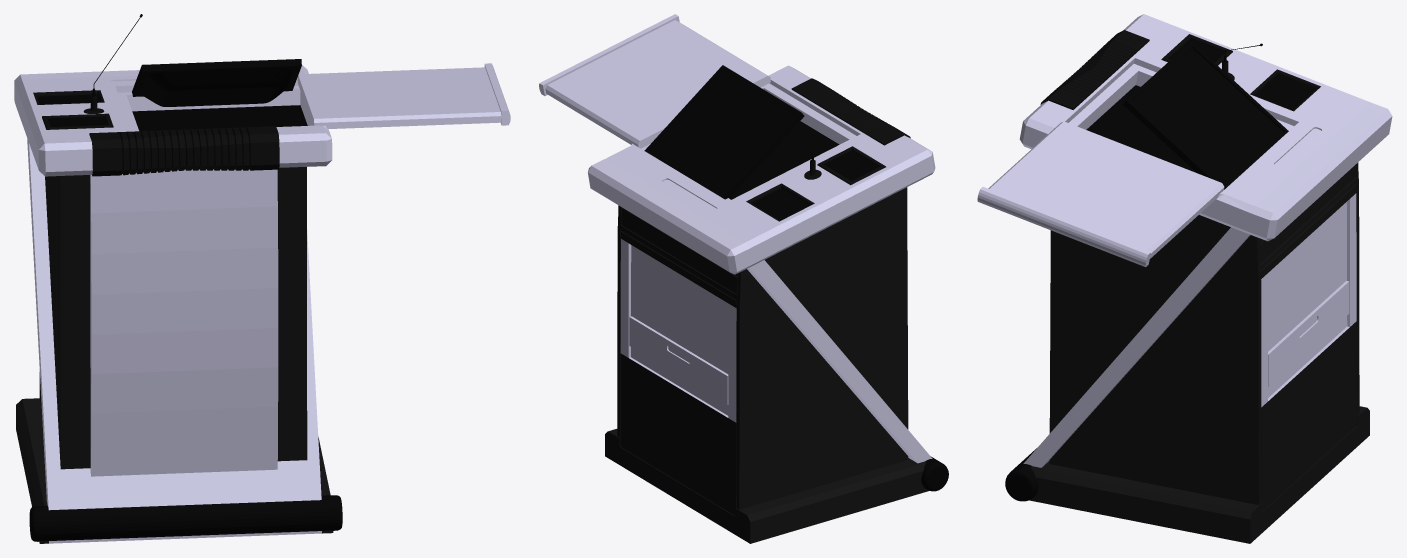
File: Lectern.fbx
The picture shows the model from 3 angles, left to right: view 1: azimuth 30°, elevation 25°; view 2: azimuth 150°, elevation 25°; view 3: azimuth 270°, elevation 25°; orthographic projection. The views are drawn at different scales.
Parts seen in each view (by area): view 1: Plane002, Plane003, Shape001, Shape002, Object001; view 2: Plane002, Shape001, Object001, Plane003, Shape002; view 3: Plane002, Shape001, Object001, Plane003, Shape002.
Boxes of the visible parts, x1,y1,x2,y2 form: Plane002: [14, 65, 333, 543]; Plane003: [27, 139, 321, 543]; Shape001: [297, 63, 510, 129]; Shape002: [29, 495, 342, 541]; Object001: [132, 59, 301, 106]; Plane002: [587, 65, 935, 543]; Shape001: [539, 14, 770, 148]; Object001: [644, 65, 804, 199]; Plane003: [747, 260, 932, 463]; Shape002: [921, 456, 948, 491]; Plane002: [1019, 14, 1392, 543]; Shape001: [977, 121, 1224, 267]; Object001: [1123, 41, 1288, 189]; Plane003: [1023, 227, 1250, 467]; Shape002: [1005, 448, 1038, 501].
Size of the model in its own units: 15797 by 14196 by 12582.
